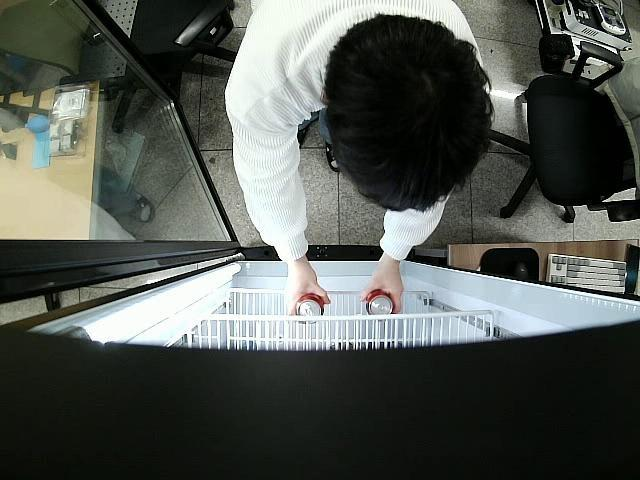11_cocaColaZero: (294, 292, 325, 324), (364, 288, 396, 316)
